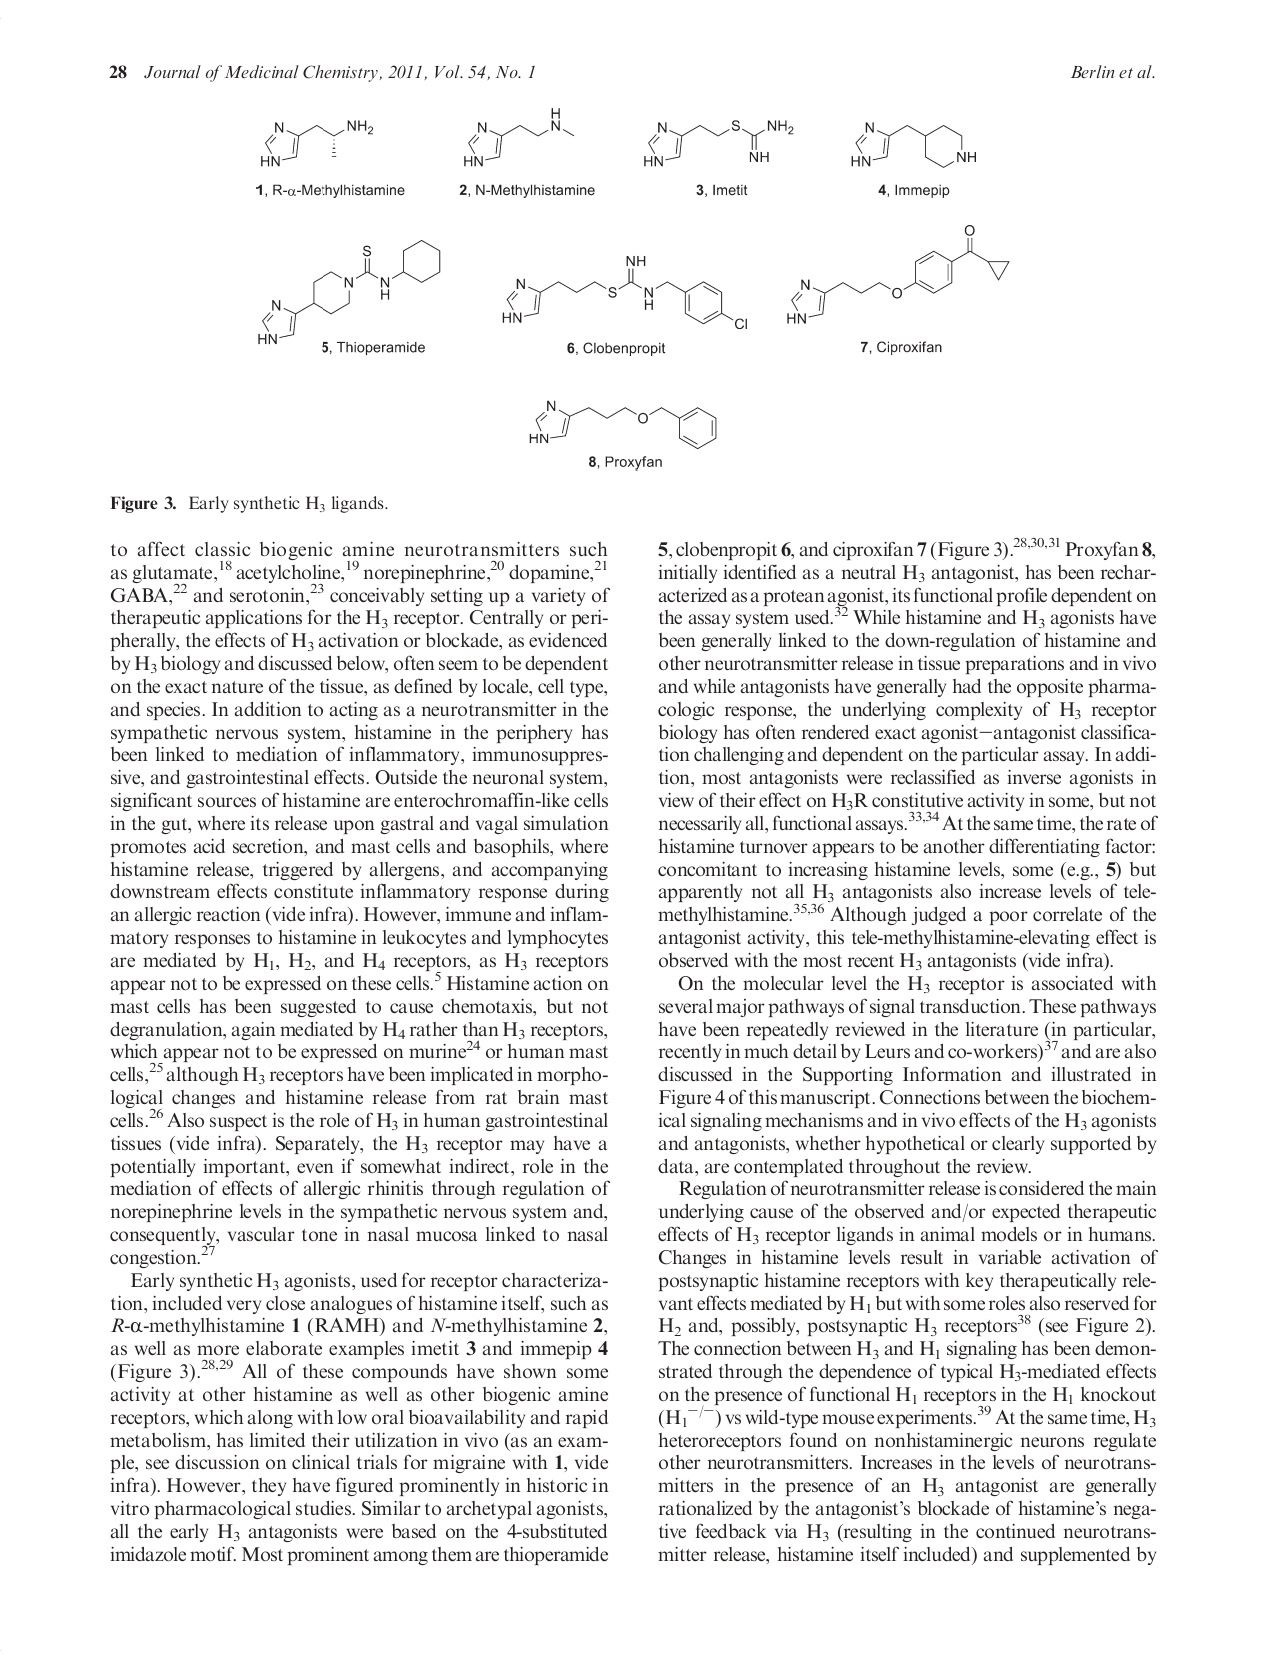exist_molecular: (785, 222, 1012, 326), (499, 251, 750, 336), (251, 235, 445, 343), (525, 396, 723, 452), (638, 116, 801, 172), (460, 105, 580, 170), (850, 118, 981, 176), (257, 114, 378, 172)
